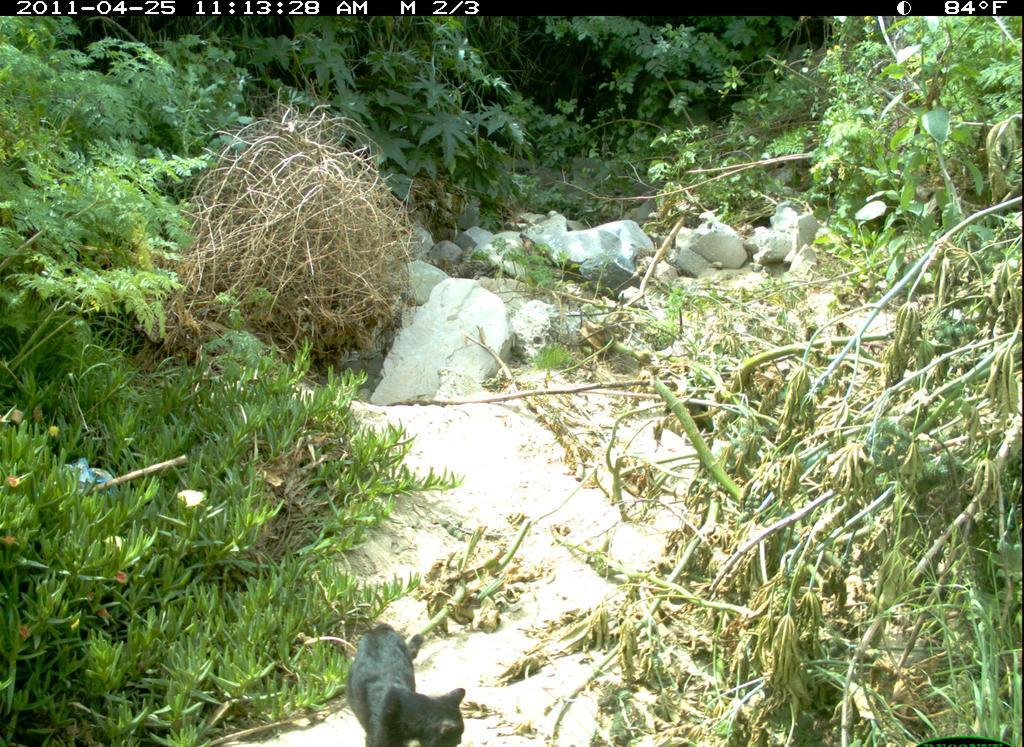cat: (340, 619, 477, 747)
